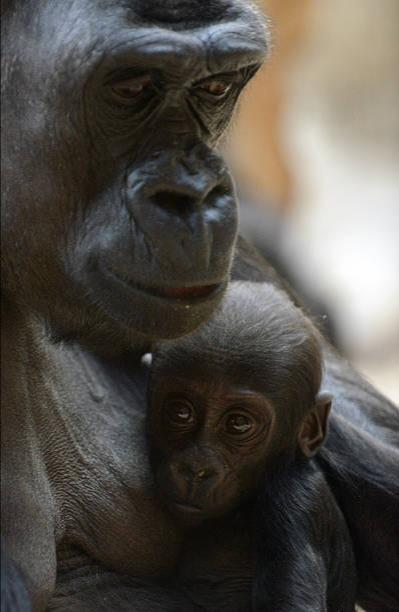gorille_Autres: (2, 2, 378, 598)
